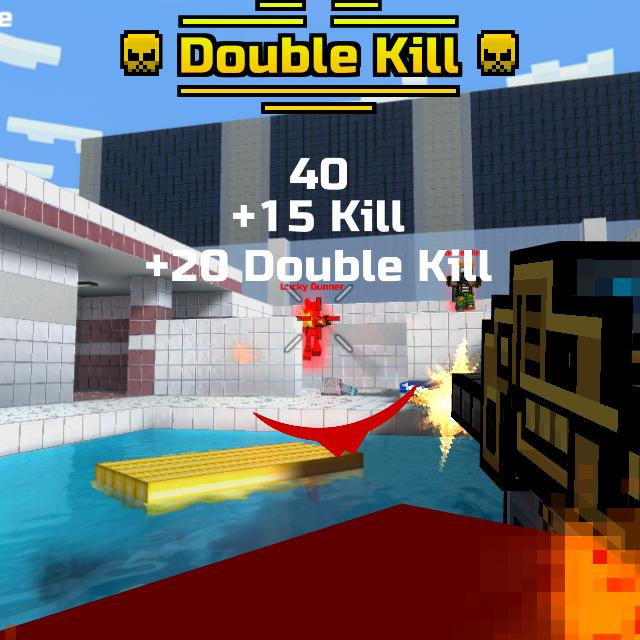Enemy: (302, 302, 331, 361), (446, 263, 481, 310)
